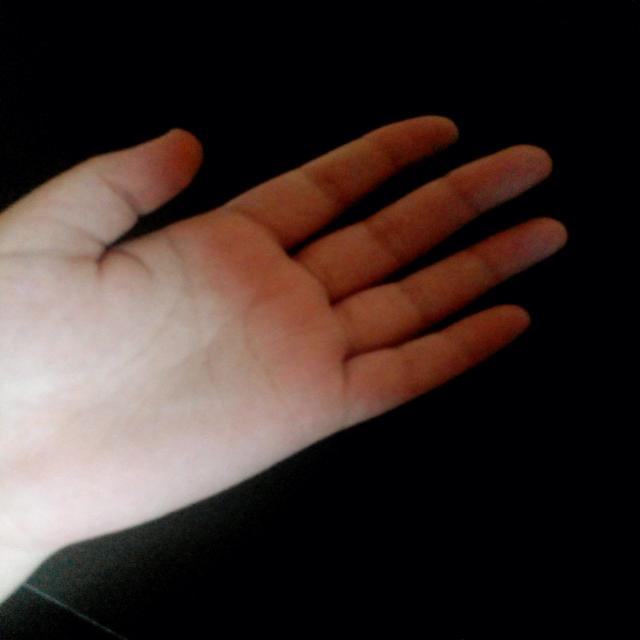Open Hand: (0, 111, 570, 536)
